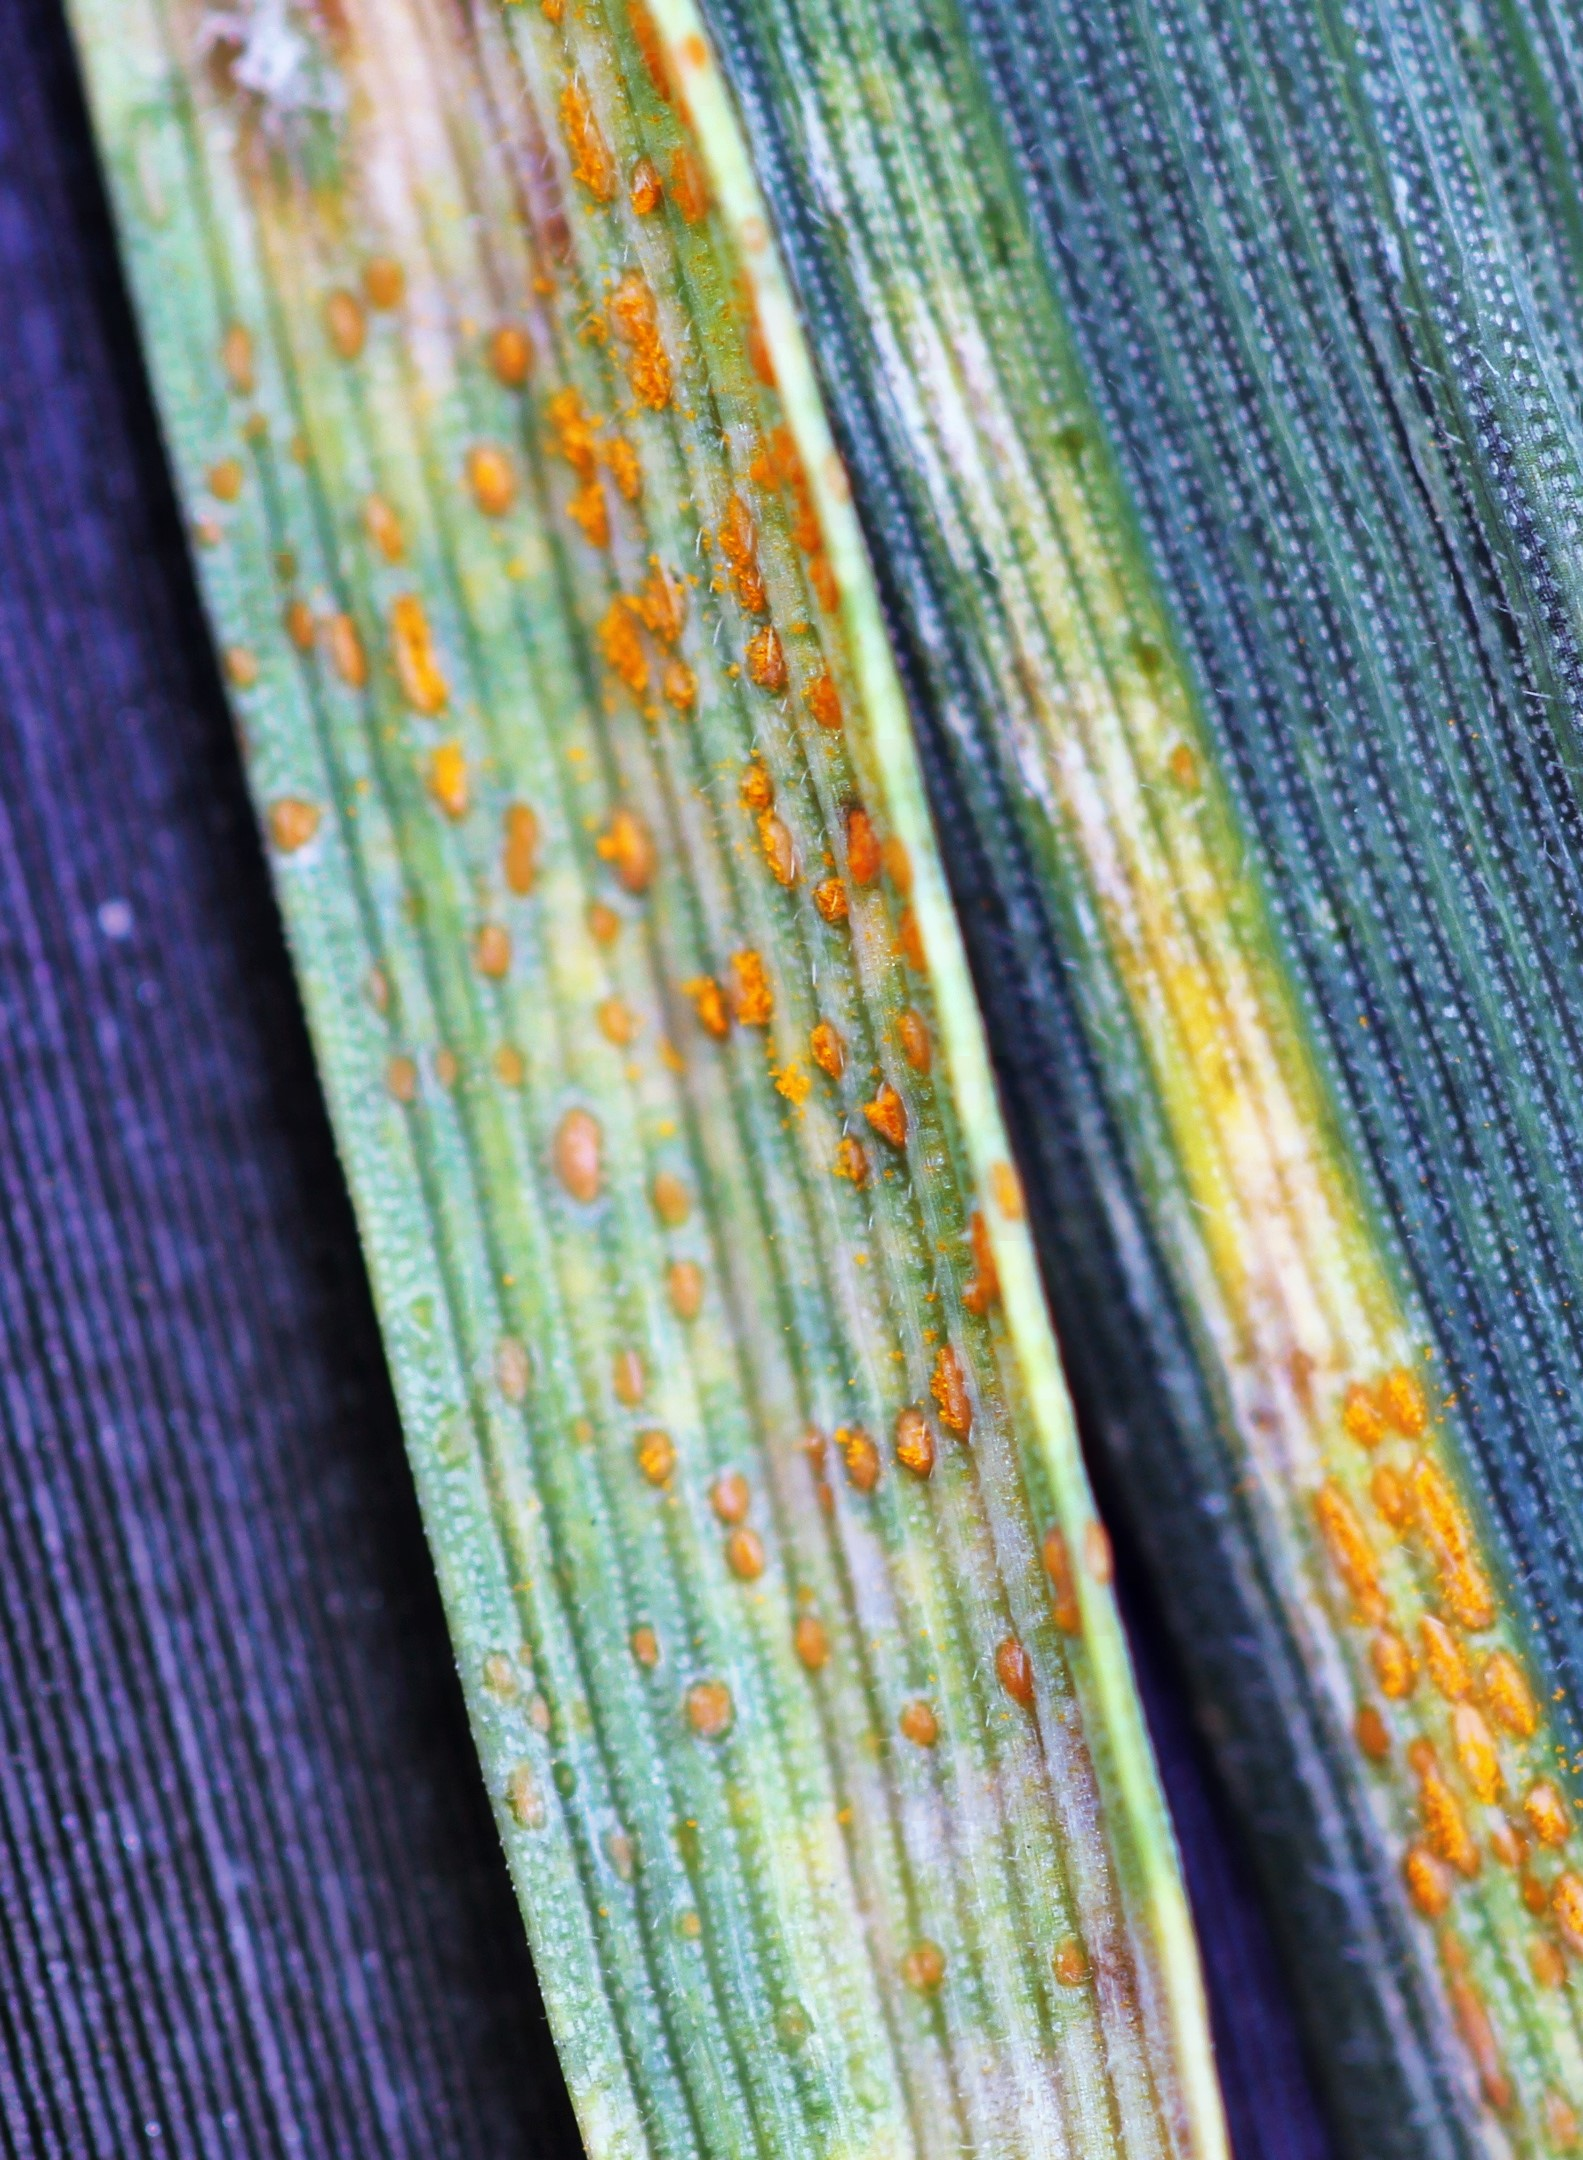Leaf Rust: (230, 184, 1583, 1934)
